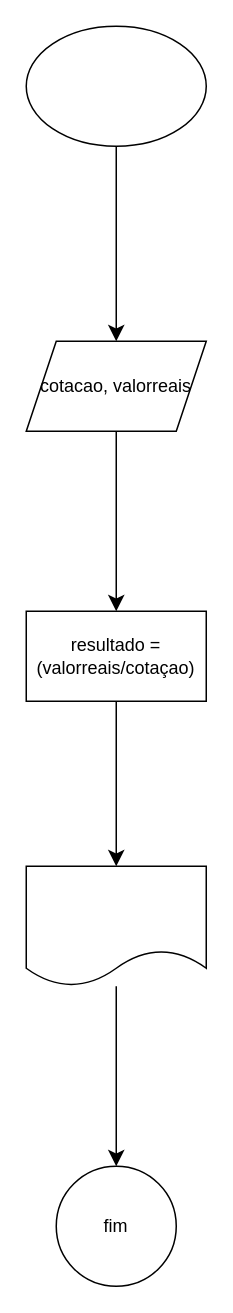
Some shapes in this 233 by 1313 pixel diagram are drawn without their labels. Each missing label, with the centre of its shape:
inicio: point 115,85
resultado: point 115,925
